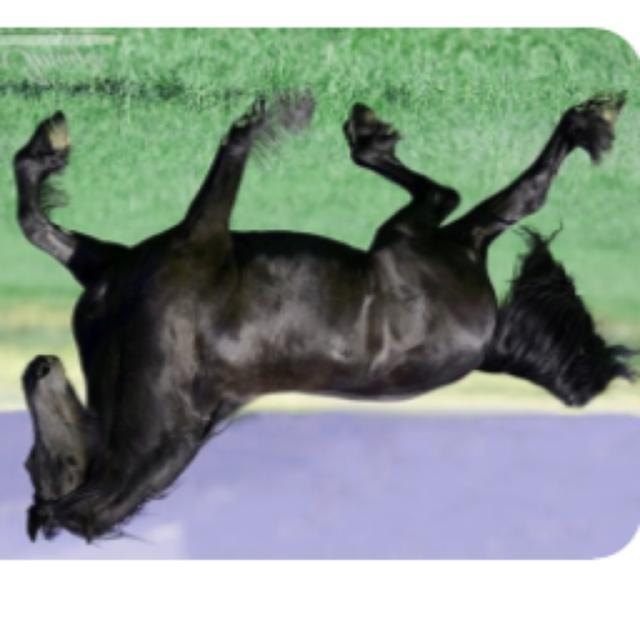Horse: (0, 82, 638, 552)
